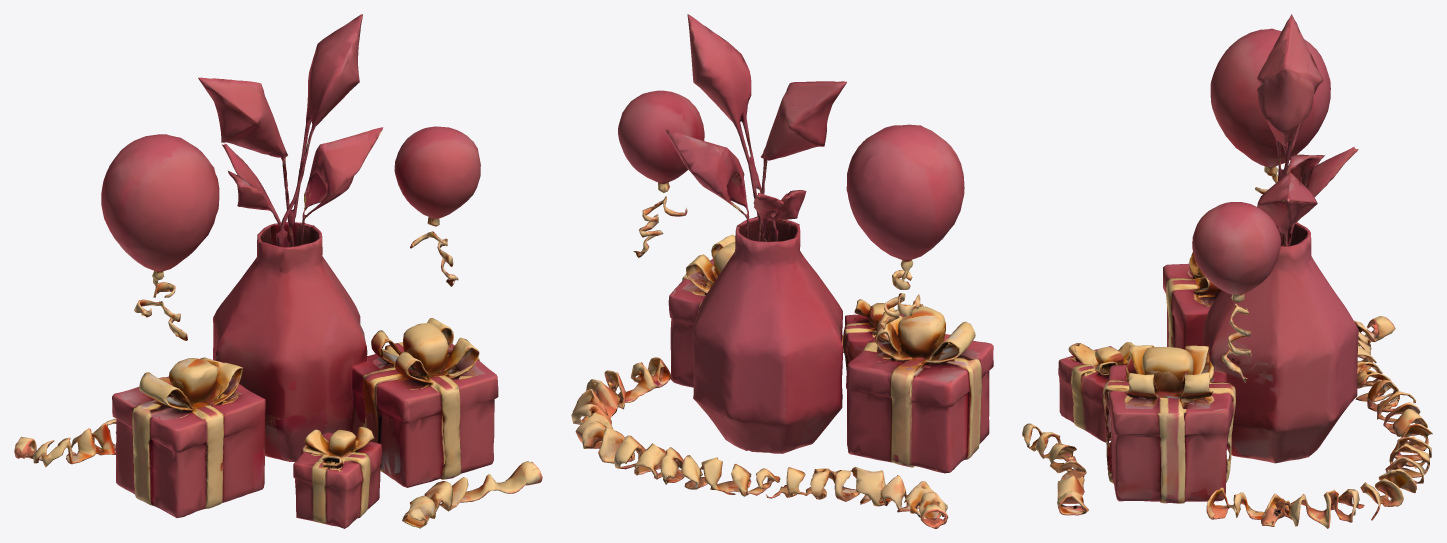
Rendered from decoration.glb.
3 renders of one model, left to right at view 1: azimuth 30°, elevation 25°; view 2: azimuth 150°, elevation 25°; view 3: azimuth 270°, elevation 25°, orthographic. The views are drawn at different scales.
Size of the model in its own units: 1.88 by 1.86 by 1.64.
Materials: 1 (1 with a texture image).
